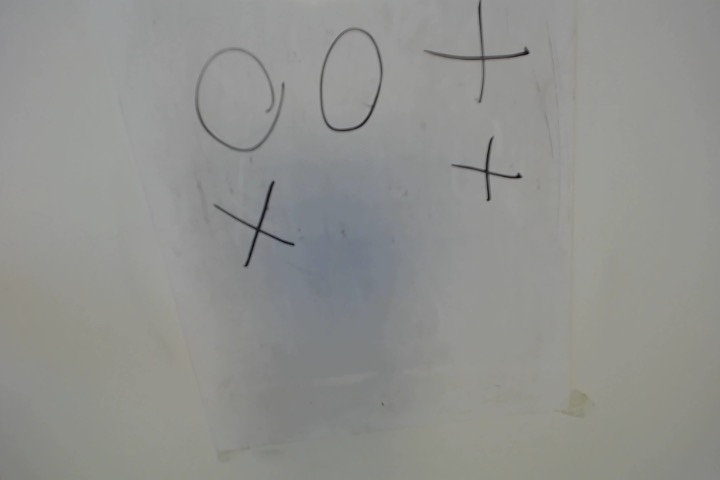0: (193, 46, 289, 154), (319, 20, 385, 138)
x: (434, 2, 537, 100), (205, 183, 299, 271), (448, 136, 528, 200)
